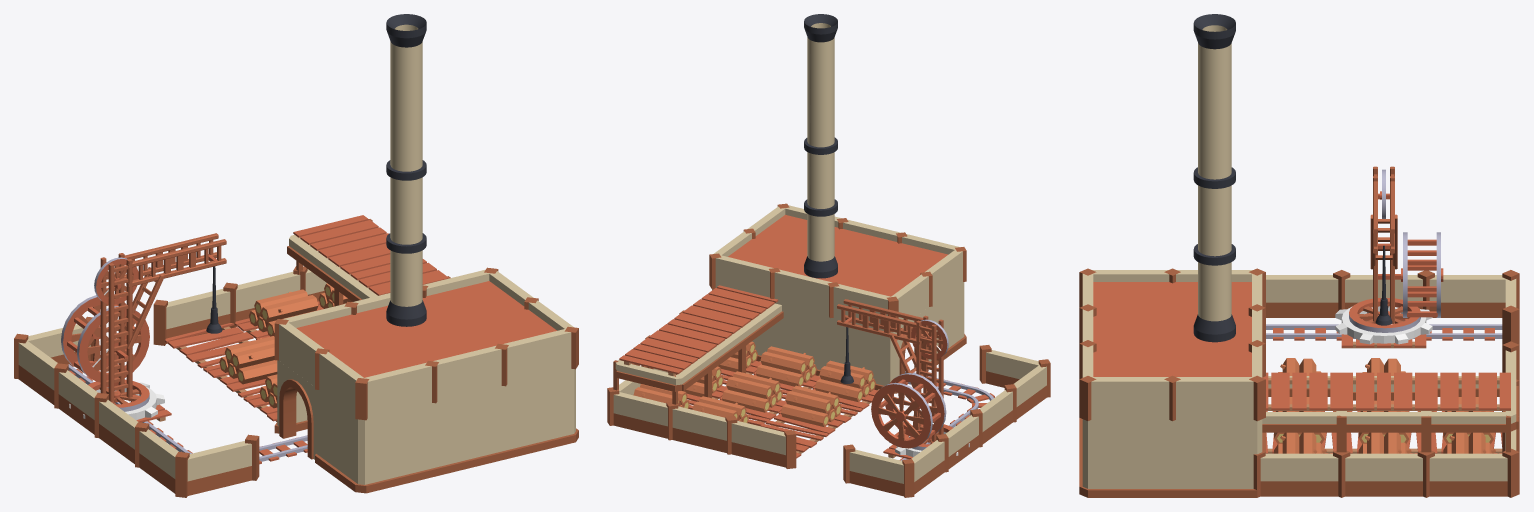
The model's file is centrale_a_biomasse.glb.
3 views of the same model, side by side, from view 1: azimuth 30°, elevation 25°; view 2: azimuth 150°, elevation 25°; view 3: azimuth 270°, elevation 25° (orthographic). The views are drawn at different scales.
Visible parts, largest first — view 1: mergedBlocks(Clone); view 2: mergedBlocks(Clone); view 3: mergedBlocks(Clone).
Boxes of the visible parts, x1,y1,x2,y2 form: mergedBlocks(Clone): (14, 14, 578, 497); mergedBlocks(Clone): (607, 14, 1050, 497); mergedBlocks(Clone): (1079, 14, 1519, 497).
Size of the model in its own units: 5.21 by 5.45 by 5.21.
1 material, 1 textured.
